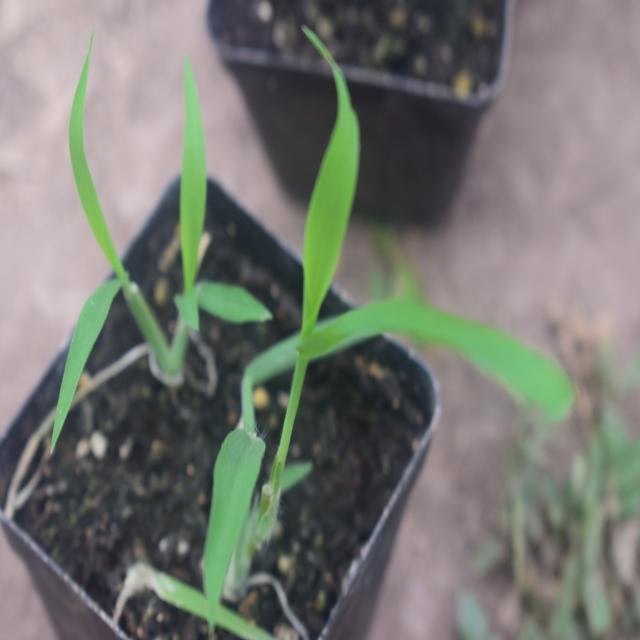crabgrass: (232, 58, 497, 471)
